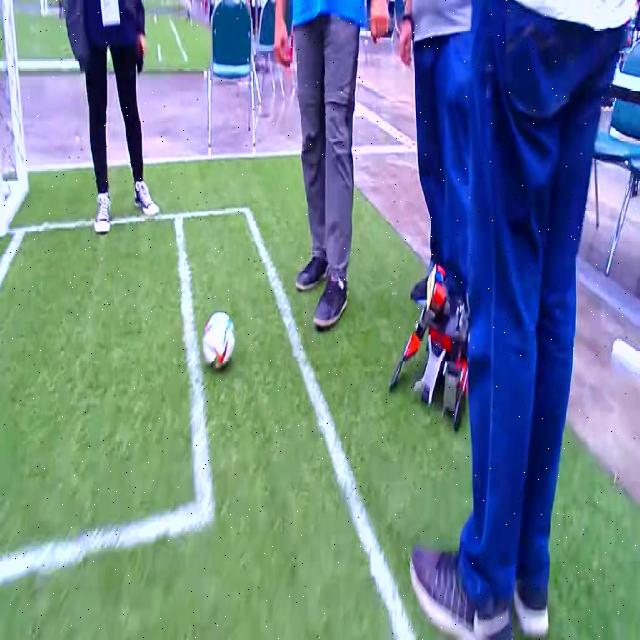ball: (203, 311, 235, 369)
